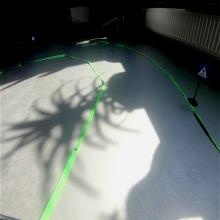crosswalk: (196, 63, 211, 81)
